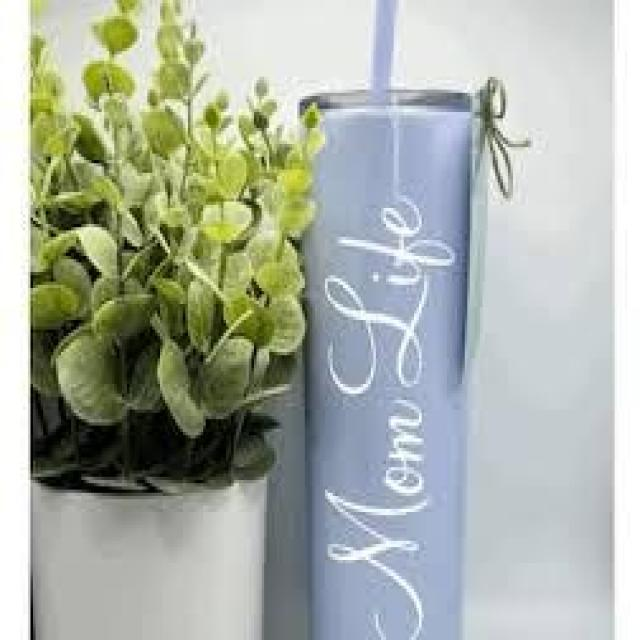bottle: (296, 0, 486, 640)
